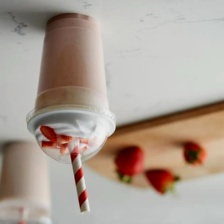drinking_straw: (62, 137, 95, 216)
glass: (21, 9, 122, 167)
